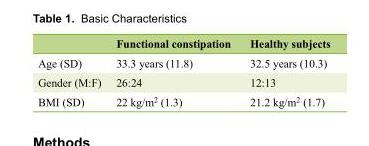table: (37, 36, 329, 107)
table column: (107, 36, 239, 107), (239, 36, 329, 107), (37, 36, 107, 107)
table column header: (37, 36, 329, 52)
table row: (37, 52, 329, 72), (37, 72, 329, 91), (37, 36, 329, 52), (37, 91, 329, 107)
